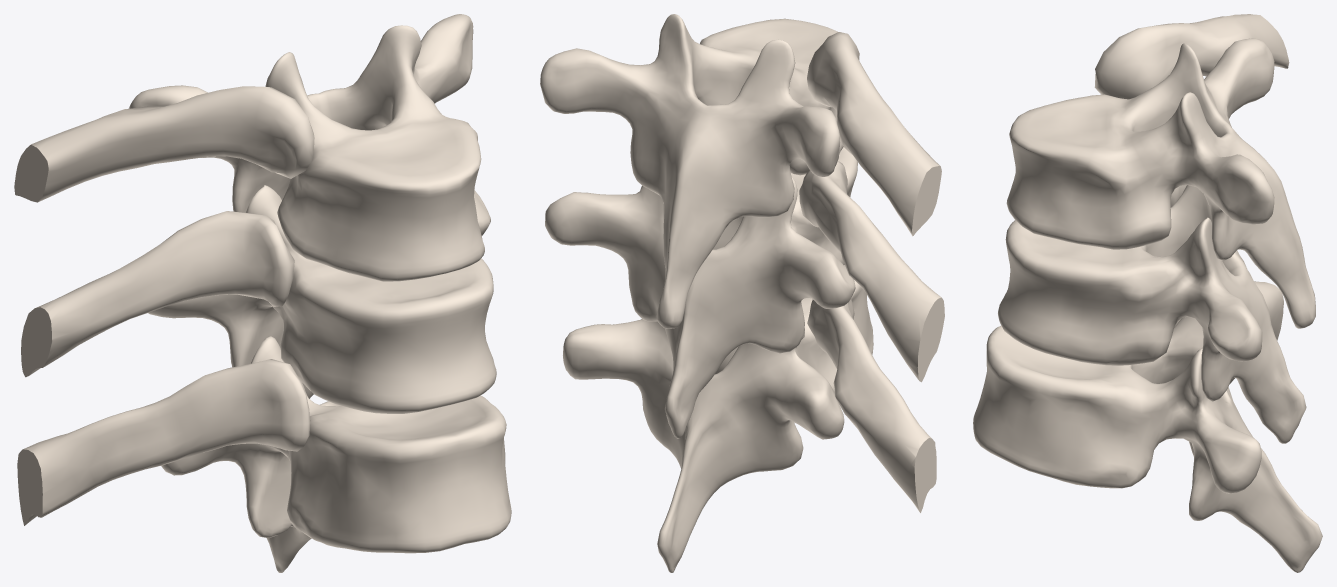
File: open3d-spinal-cord-skeletal-01.glb
3 views of the same model, side by side, from view 1: azimuth 30°, elevation 25°; view 2: azimuth 150°, elevation 25°; view 3: azimuth 270°, elevation 25° (orthographic). The views are drawn at different scales.
Parts seen in each view (by area): view 1: O3D_7f551da9874280, O3D_5a716fbff03e83, O3D_f2e5e2ac576d3c, O3D_1fe4de9892dbdd, O3D_9c98fabf426cca, O3D_8c166bc1af5a01; view 2: O3D_7f551da9874280, O3D_f2e5e2ac576d3c, O3D_5a716fbff03e83, O3D_8c166bc1af5a01, O3D_9c98fabf426cca, O3D_1fe4de9892dbdd; view 3: O3D_7f551da9874280, O3D_5a716fbff03e83, O3D_f2e5e2ac576d3c, O3D_9c98fabf426cca, O3D_1fe4de9892dbdd.
Part boxes in pixels (<box>): O3D_7f551da9874280: <box>129,14,484,281</box>; O3D_5a716fbff03e83: <box>161,336,511,572</box>; O3D_f2e5e2ac576d3c: <box>148,185,496,413</box>; O3D_1fe4de9892dbdd: <box>17,359,310,525</box>; O3D_9c98fabf426cca: <box>14,86,314,202</box>; O3D_8c166bc1af5a01: <box>21,211,294,377</box>; O3D_7f551da9874280: <box>540,14,843,328</box>; O3D_f2e5e2ac576d3c: <box>545,147,857,438</box>; O3D_5a716fbff03e83: <box>563,265,873,572</box>; O3D_8c166bc1af5a01: <box>799,161,944,382</box>; O3D_9c98fabf426cca: <box>807,32,941,236</box>; O3D_1fe4de9892dbdd: <box>807,298,936,512</box>; O3D_7f551da9874280: <box>1006,38,1315,328</box>; O3D_5a716fbff03e83: <box>973,317,1322,572</box>; O3D_f2e5e2ac576d3c: <box>998,185,1306,443</box>; O3D_9c98fabf426cca: <box>1094,14,1289,99</box>; O3D_1fe4de9892dbdd: <box>1174,281,1283,340</box>.
Size of the model in its own units: 0.7613 by 0.948 by 0.5968.
